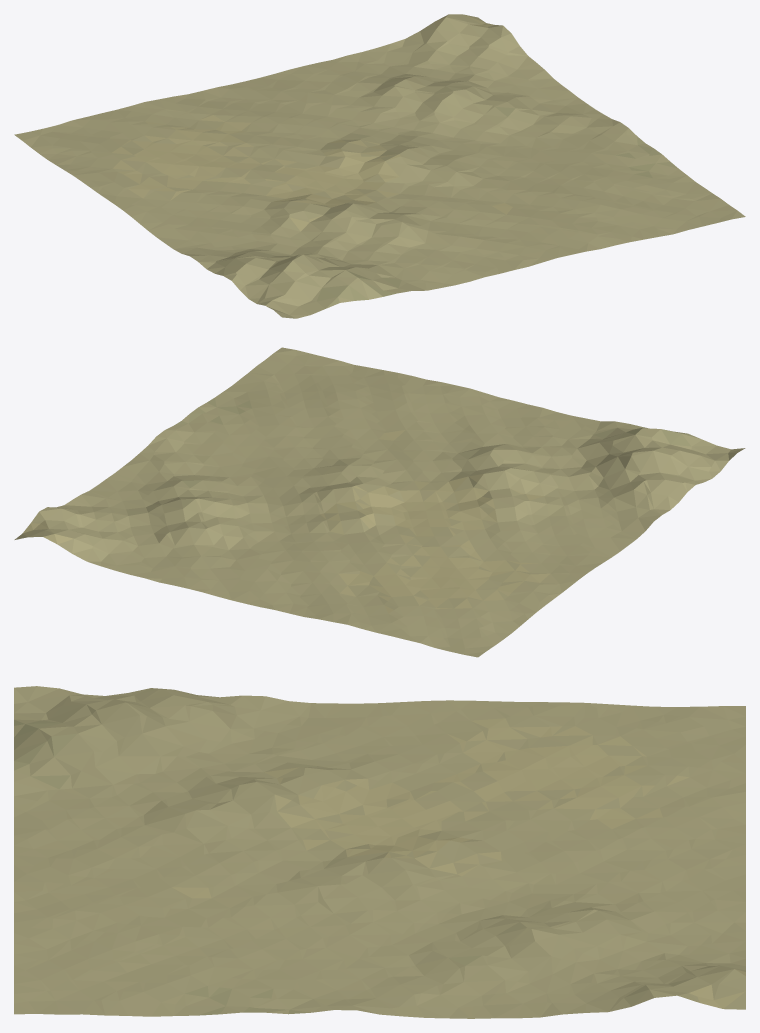
The model's file is Ground_-2_-4.glb.
The picture shows the model from 3 angles, top to bottom: view 1: azimuth 30°, elevation 25°; view 2: azimuth 150°, elevation 25°; view 3: azimuth 270°, elevation 25°; orthographic projection. The views are drawn at different scales.
Parts seen in each view (by area): view 1: Ground_-2_-4; view 2: Ground_-2_-4; view 3: Ground_-2_-4.
Part boxes in pixels (bbox=[...]): Ground_-2_-4: bbox=[14, 14, 745, 318]; Ground_-2_-4: bbox=[14, 347, 745, 657]; Ground_-2_-4: bbox=[14, 686, 745, 1018].
Bounding box in the file's own units: 768 × 49 × 768.
